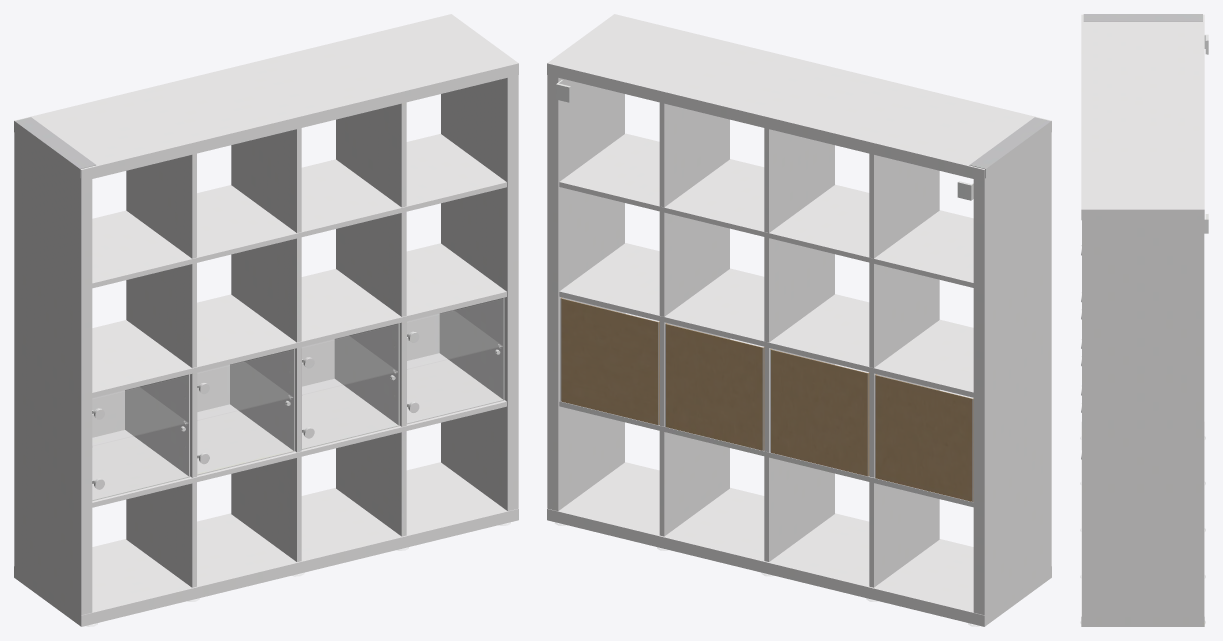
Rendered from 17 - KALLAX Shelving unit with 4 inserts - whiteglass 147x147 cm.glb.
The picture shows the model from 3 angles, left to right: view 1: azimuth 30°, elevation 25°; view 2: azimuth 150°, elevation 25°; view 3: azimuth 270°, elevation 25°; orthographic projection. The views are drawn at different scales.
Bounding box in the file's own units: 1.47 × 1.47 × 0.4092.
4 materials, 1 textured.
